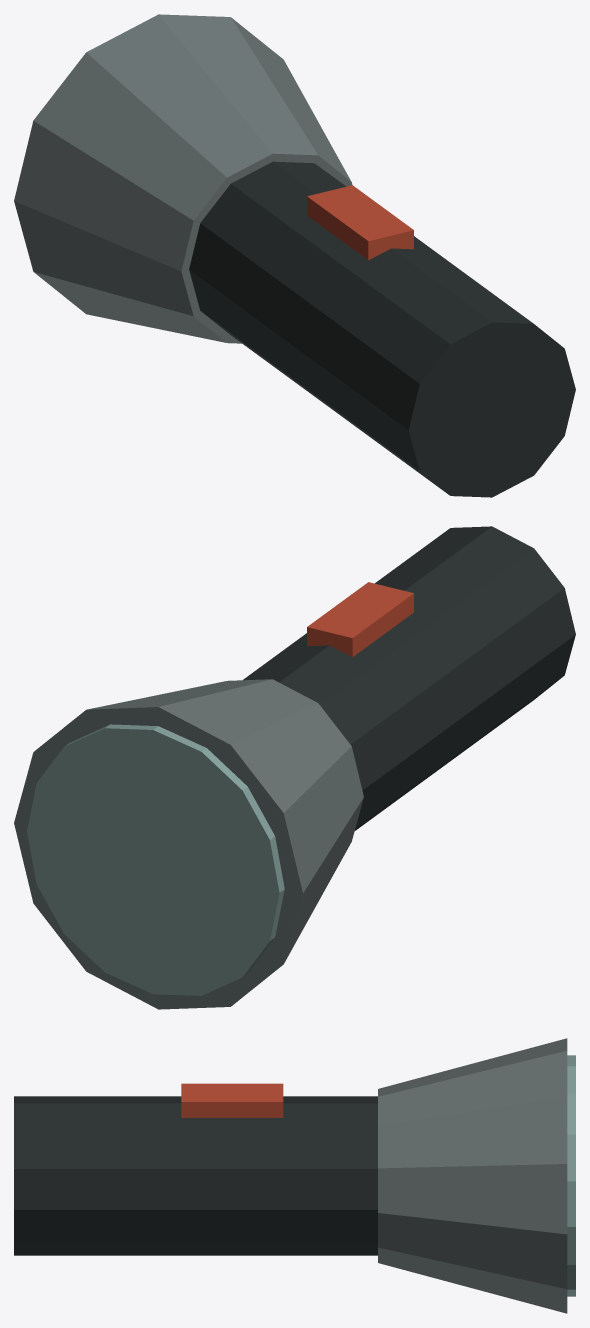
Rendered from flashlight.glb.
3 renders of one model, top to bottom at view 1: azimuth 30°, elevation 25°; view 2: azimuth 150°, elevation 25°; view 3: azimuth 270°, elevation 25°, orthographic. The views are drawn at different scales.
Visible parts, largest first — view 1: flashlight; view 2: flashlight; view 3: flashlight.
Part boxes in pixels (x1=…): flashlight: x1=14, y1=14, x2=575, y2=497; flashlight: x1=14, y1=526, x2=575, y2=1009; flashlight: x1=14, y1=1038, x2=575, y2=1313.
Bounding box in the file's own units: 0.19 × 0.19 × 0.386.
